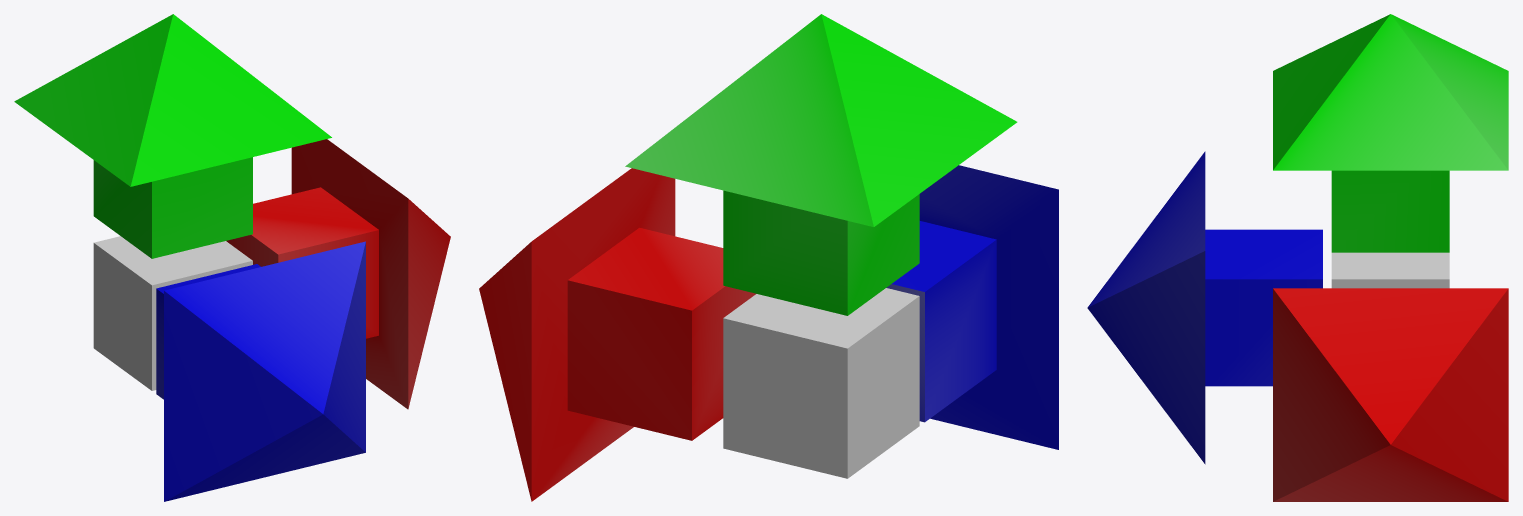
File: arrows.gltf
3 views of the same model, side by side, from view 1: azimuth 30°, elevation 25°; view 2: azimuth 150°, elevation 25°; view 3: azimuth 270°, elevation 25° (orthographic). The views are drawn at different scales.
Parts seen in each view (by area): view 1: Cube; view 2: Cube; view 3: Cube.
Part boxes in pixels (left/top/right/bottom): Cube: left=14, top=14, right=450, bottom=501; Cube: left=479, top=14, right=1058, bottom=501; Cube: left=1087, top=14, right=1508, bottom=501.
Bounding box in the file's own units: 7.5 × 7.5 × 7.15.
